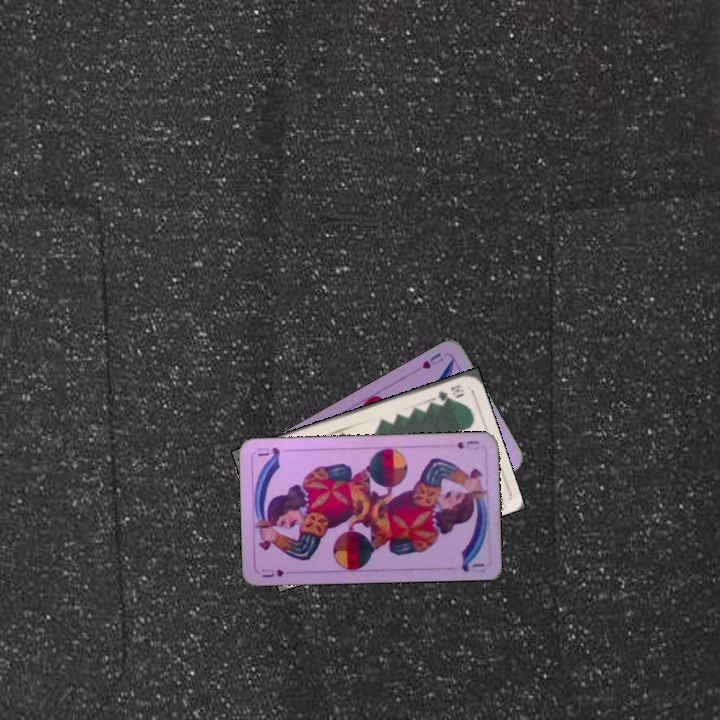G10: (434, 381, 466, 404)
HU: (418, 349, 446, 372)
SU: (258, 565, 286, 580), (453, 437, 481, 451)
